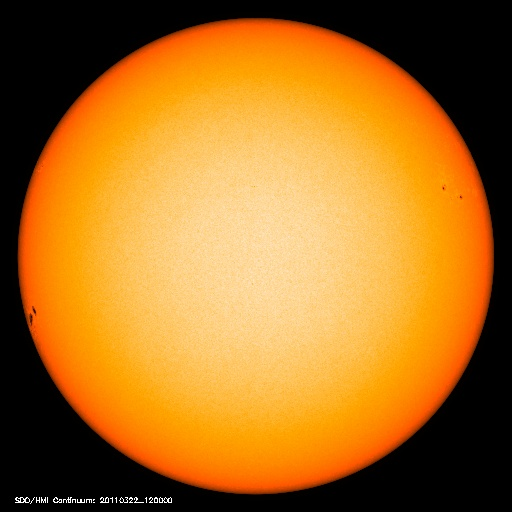sunspot: (435, 178, 473, 204), (20, 300, 45, 333)
